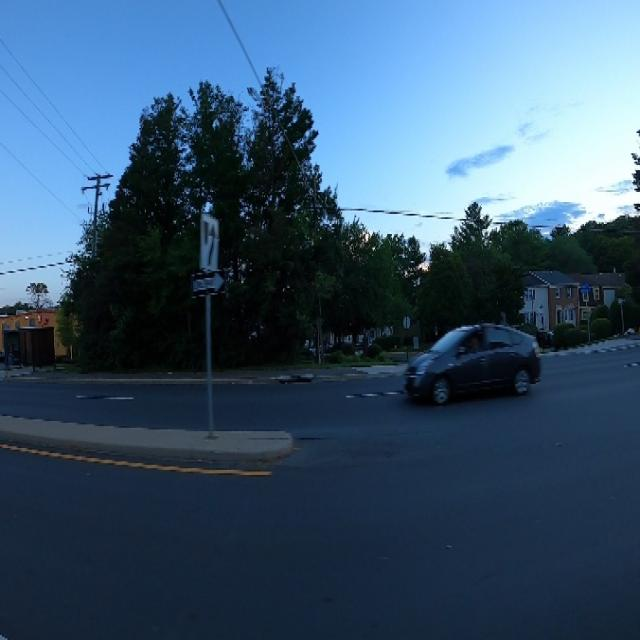car: (399, 312, 547, 418)
